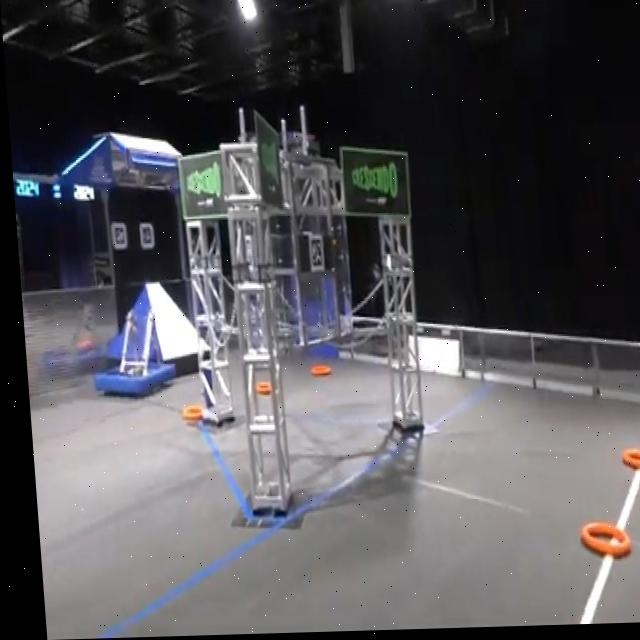note: (570, 521, 623, 564), (614, 450, 640, 478), (176, 404, 197, 422), (304, 366, 327, 380), (249, 382, 265, 396), (636, 410, 640, 433)
robot: (84, 309, 172, 400)
